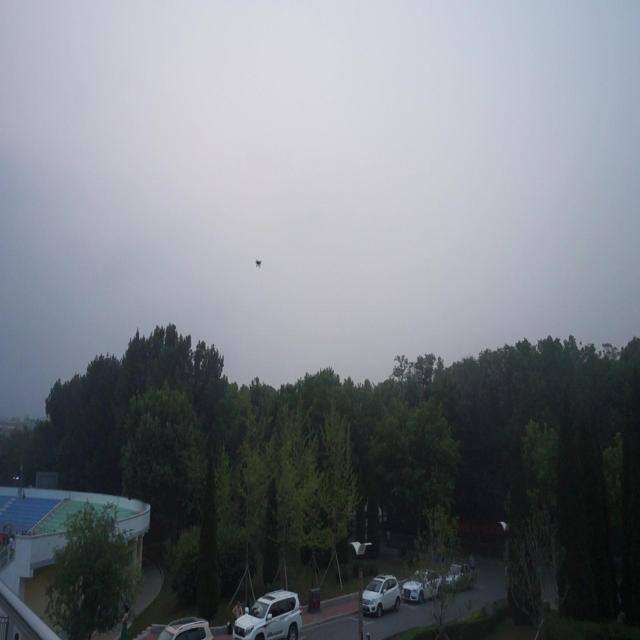drone: (254, 255, 264, 268)
